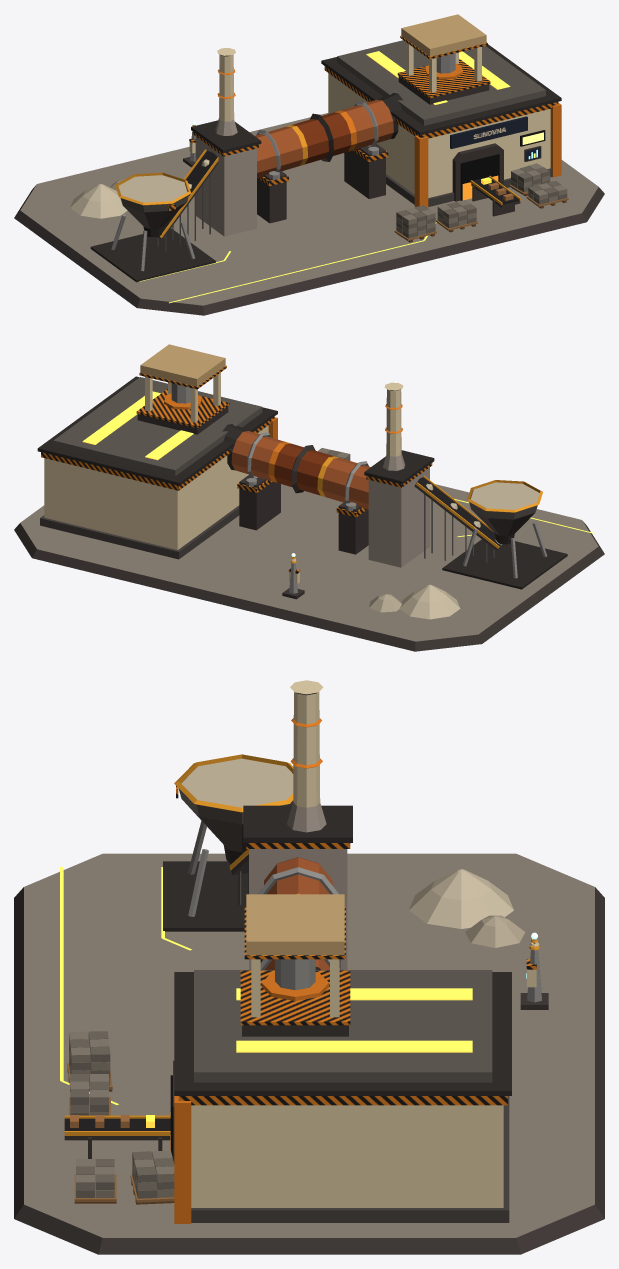
Rendered from budova-slinovna.glb.
3 renders of one model, top to bottom at view 1: azimuth 30°, elevation 25°; view 2: azimuth 150°, elevation 25°; view 3: azimuth 270°, elevation 25°, orthographic. The views are drawn at different scales.
Visible parts, largest first — view 1: budova-slinovna; view 2: budova-slinovna; view 3: budova-slinovna.
Boxes of the visible parts, box(x1,y1,x2,y2) form: budova-slinovna: box(14, 14, 604, 315); budova-slinovna: box(14, 344, 604, 651); budova-slinovna: box(14, 680, 604, 1254).
Bounding box in the file's own units: 33 × 11.8 × 21.
36 materials, 2 textured.
